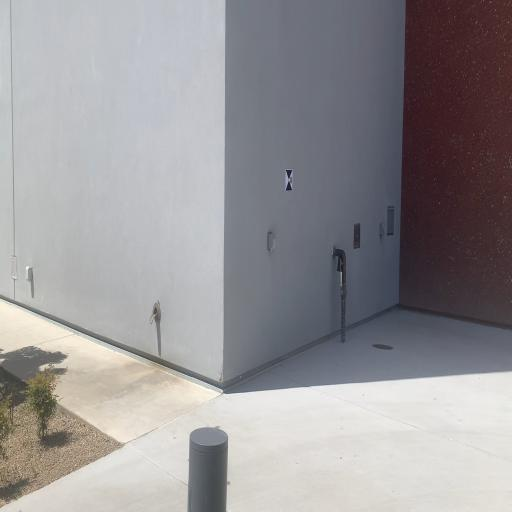target8: (285, 169, 293, 191)
